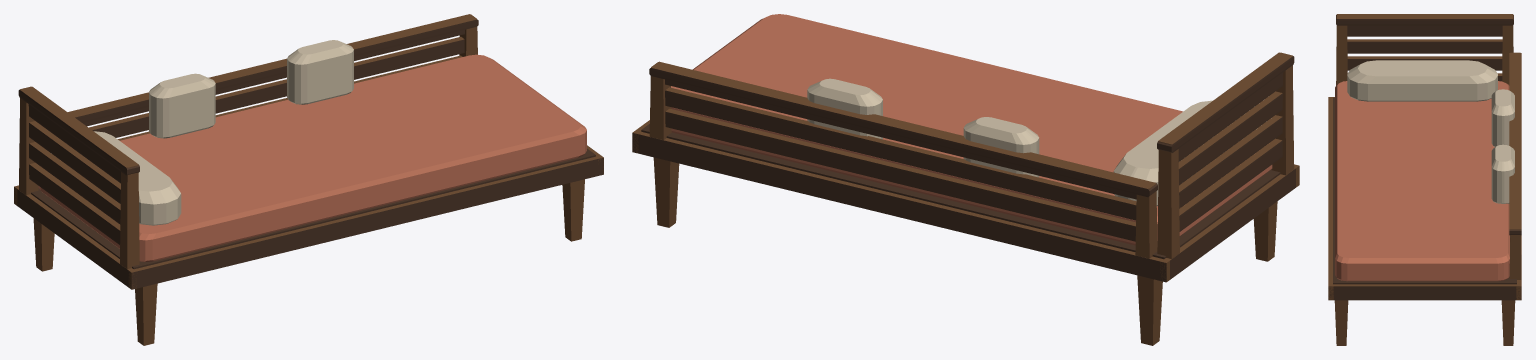
File: FN_Sofa_Daybed.glb
The picture shows the model from 3 angles, left to right: view 1: azimuth 30°, elevation 25°; view 2: azimuth 150°, elevation 25°; view 3: azimuth 270°, elevation 25°; orthographic projection. The views are drawn at different scales.
Parts seen in each view (by area): view 1: FN_Sofa_Daybed; view 2: FN_Sofa_Daybed; view 3: FN_Sofa_Daybed.
Boxes of the visible parts, x1,y1,x2,y2 form: FN_Sofa_Daybed: (14, 14, 603, 345); FN_Sofa_Daybed: (632, 14, 1299, 345); FN_Sofa_Daybed: (1328, 14, 1521, 345).
Size of the model in its own units: 1.9 by 0.7 by 0.82.
Materials: 1 (1 with a texture image).
